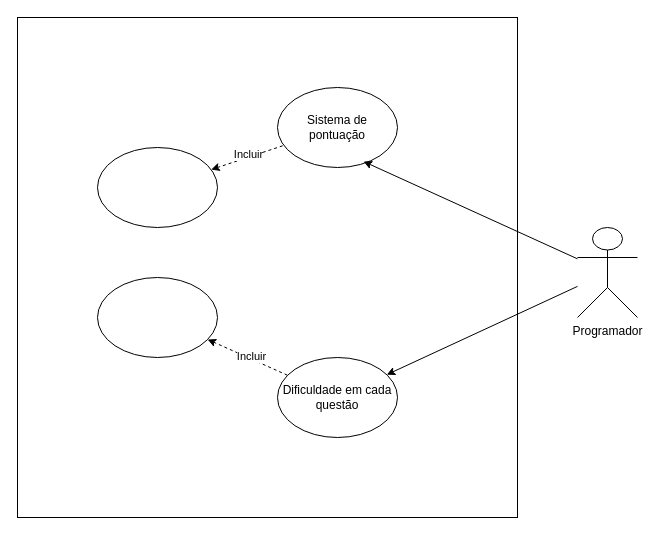
This 660x535 diagram has some shape labels left out. The shapes that lost their labels are listed below. From the top down, each one's box as (x1, y1, x2, y2) in pixels, then its label:
(96, 146, 218, 228): Gera um Relatório
(96, 276, 218, 358): Gera um Feedback para cada pergunta
